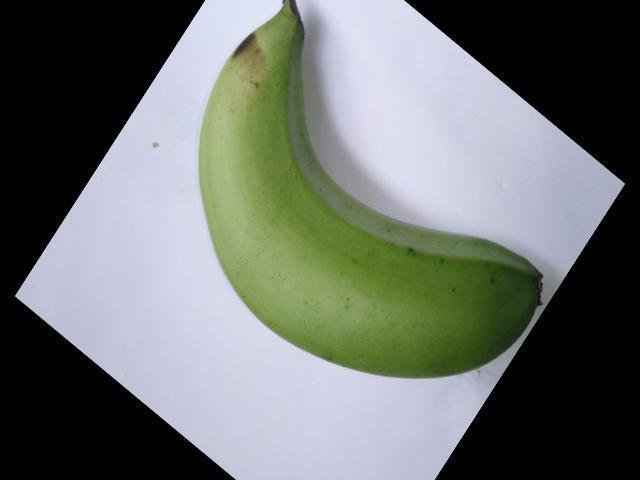freshunripe: (164, 0, 562, 394)
